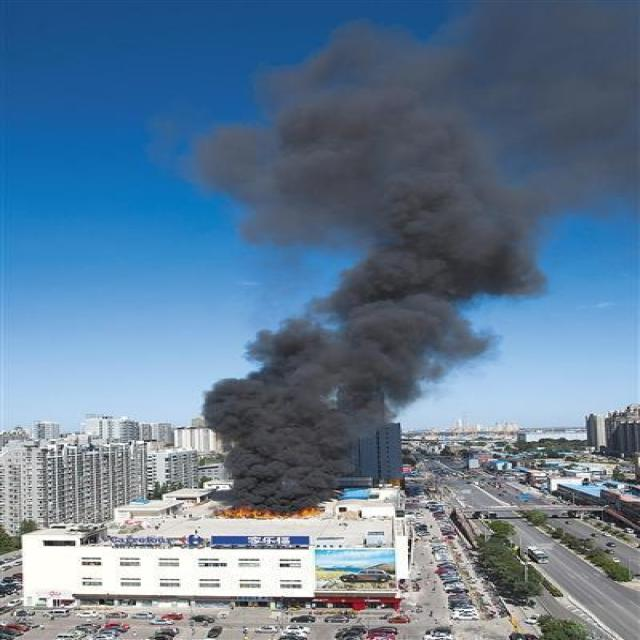fire: (221, 500, 318, 519)
smoke: (185, 3, 640, 502)
